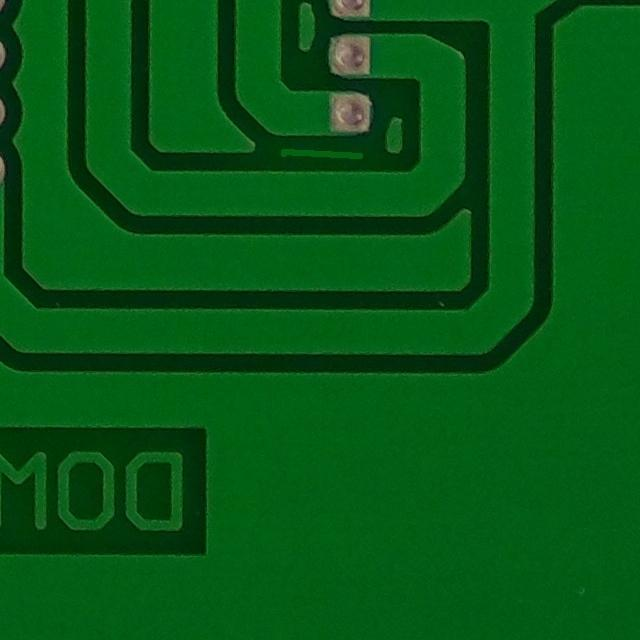spurious_copper: (273, 137, 373, 172)
